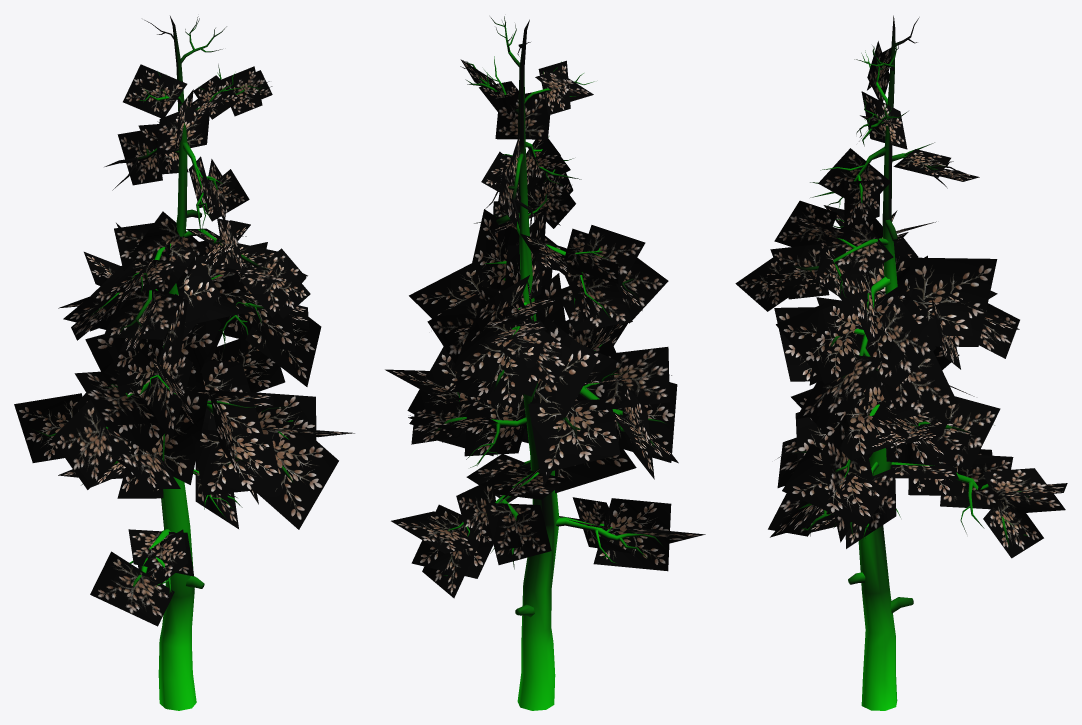
Rendered from SM_PineLeafySnow02.fbx.
The picture shows the model from 3 angles, left to right: view 1: azimuth 30°, elevation 25°; view 2: azimuth 150°, elevation 25°; view 3: azimuth 270°, elevation 25°; orthographic projection.
Parts seen in each view (by area): view 1: SM_PineLeafySnow02_LOD0; view 2: SM_PineLeafySnow02_LOD0; view 3: SM_PineLeafySnow02_LOD0.
Boxes of the visible parts, x1,y1,x2,y2 form: SM_PineLeafySnow02_LOD0: [14, 16, 354, 710]; SM_PineLeafySnow02_LOD0: [385, 16, 705, 710]; SM_PineLeafySnow02_LOD0: [735, 15, 1067, 710].
Size of the model in its own units: 712 by 1655 by 724.
